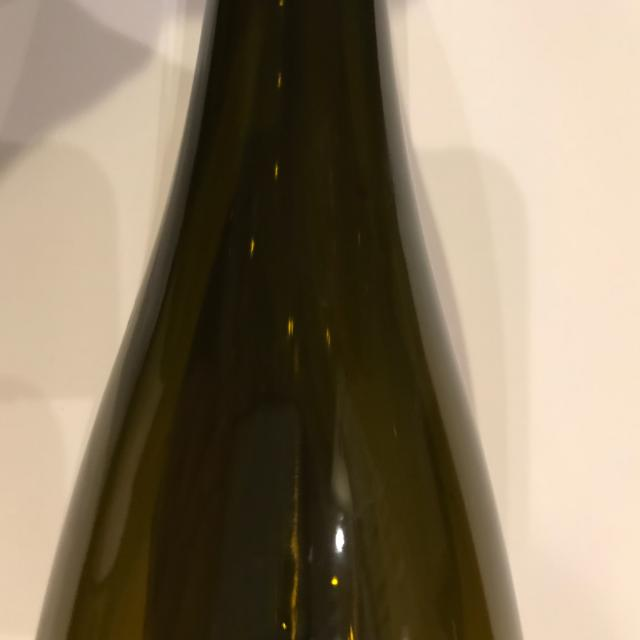glass: (34, 0, 524, 640)
